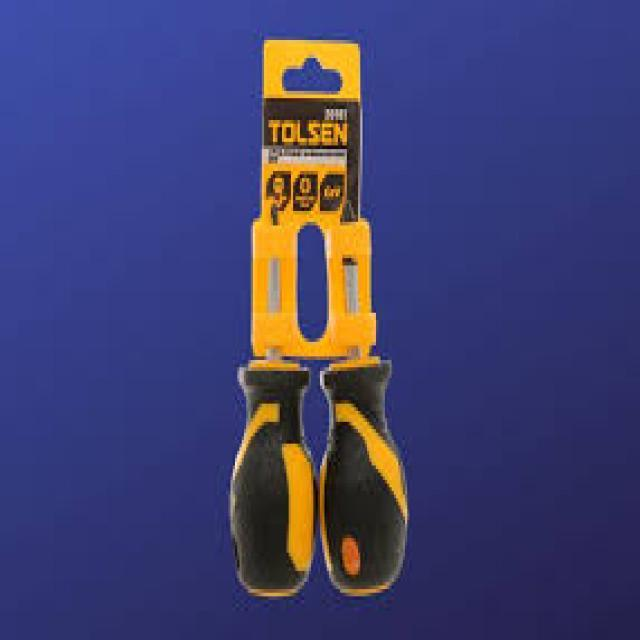screwdriver: (316, 198, 406, 606), (228, 198, 318, 602)
